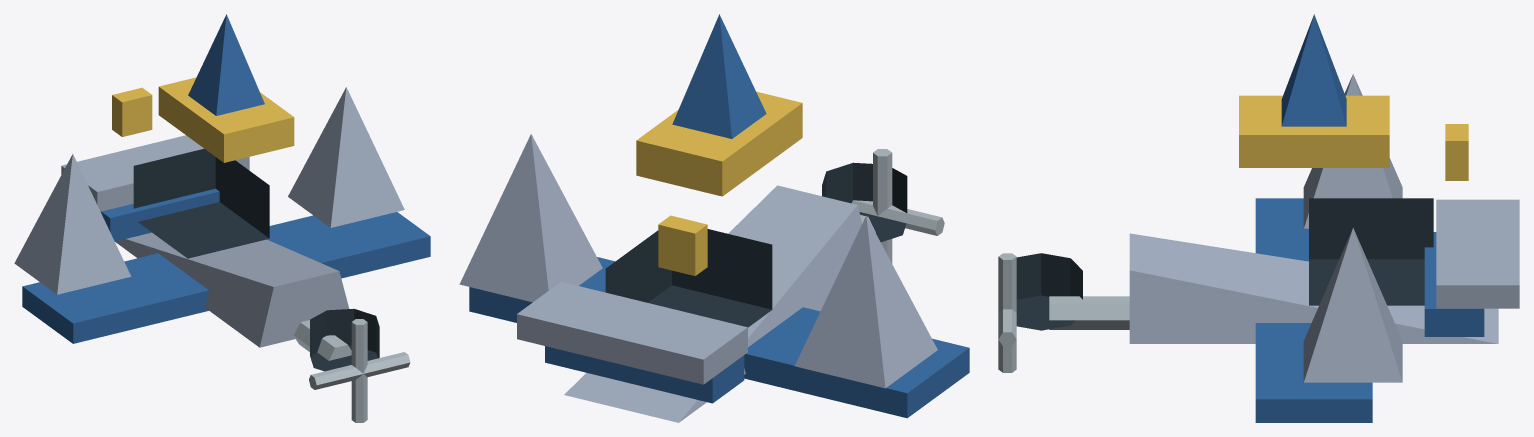
File: interceptor.obj
3 renders of one model, left to right at view 1: azimuth 30°, elevation 25°; view 2: azimuth 150°, elevation 25°; view 3: azimuth 270°, elevation 25°, orthographic. The views are drawn at different scales.
Parts seen in each view (by area): view 1: air; view 2: air; view 3: air.
Part boxes in pixels (x1,y1,x2,y2): air: (14, 14, 430, 422); air: (459, 14, 969, 422); air: (998, 14, 1519, 422).
Size of the model in its own units: 1.83 by 1.51 by 2.01.
